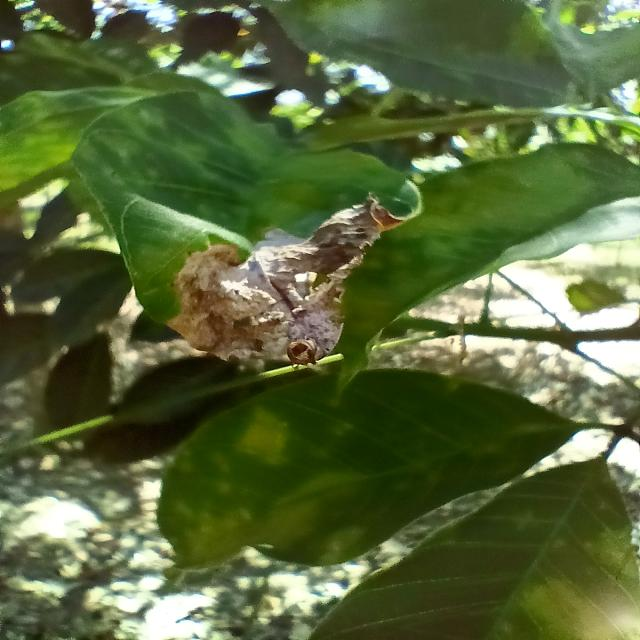Leaf-Blight: (166, 190, 402, 366)
